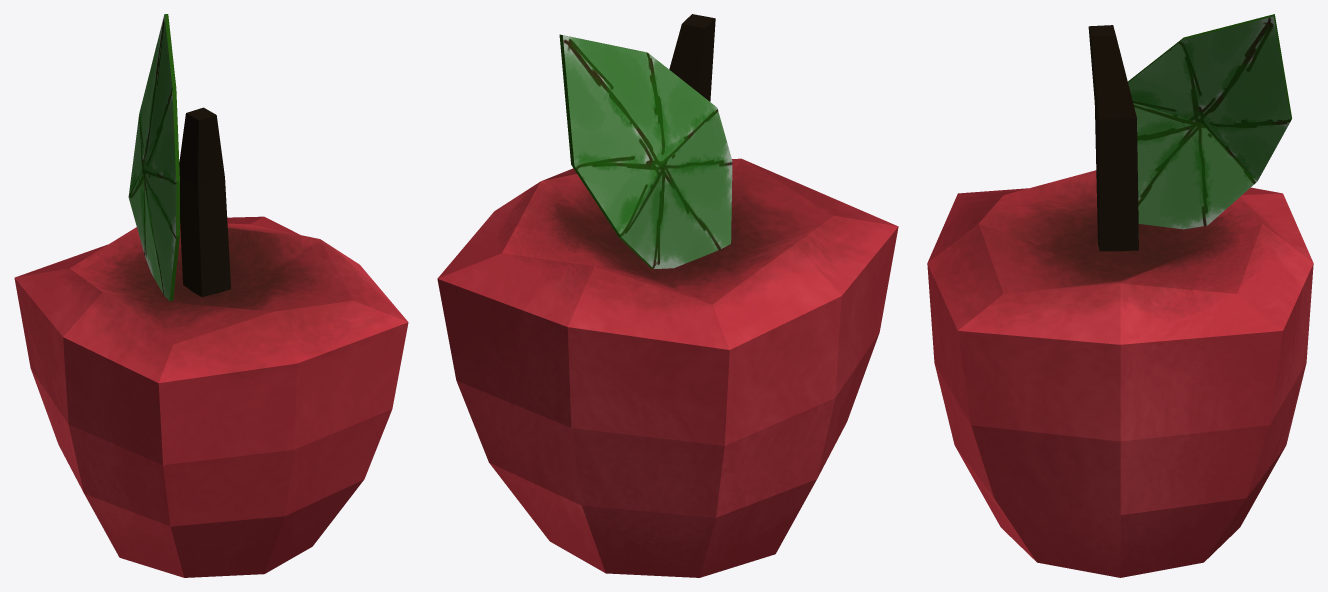
The model's file is FoodResource.glb.
3 views of the same model, side by side, from view 1: azimuth 30°, elevation 25°; view 2: azimuth 150°, elevation 25°; view 3: azimuth 270°, elevation 25° (orthographic). The views are drawn at different scales.
Visible parts, largest first — view 1: Apple; view 2: Apple; view 3: Apple.
Part boxes in pixels (left/top/right/bottom): Apple: left=14, top=14, right=408, bottom=577; Apple: left=437, top=14, right=898, bottom=577; Apple: left=927, top=14, right=1313, bottom=577.
Bounding box in the file's own units: 0.2987 × 0.448 × 0.2987.
1 material, 1 textured.
